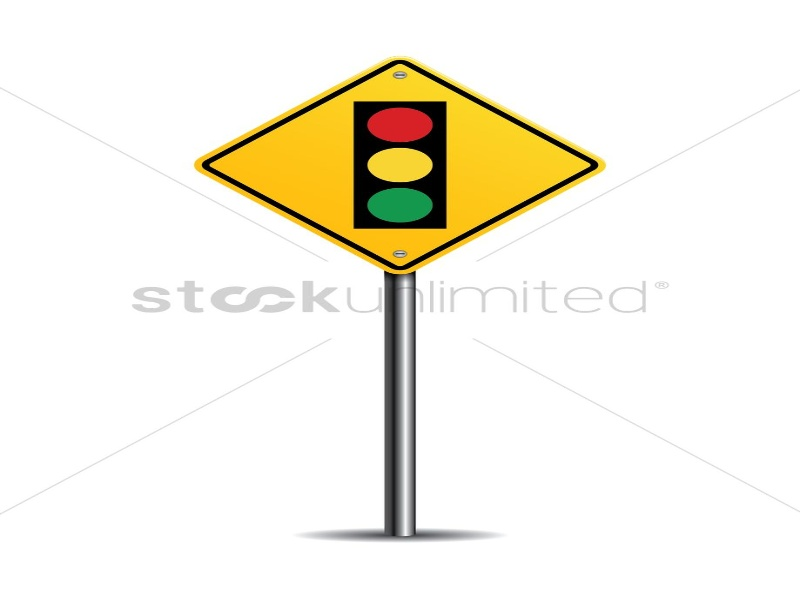traffic signal sign: (190, 54, 613, 276)
